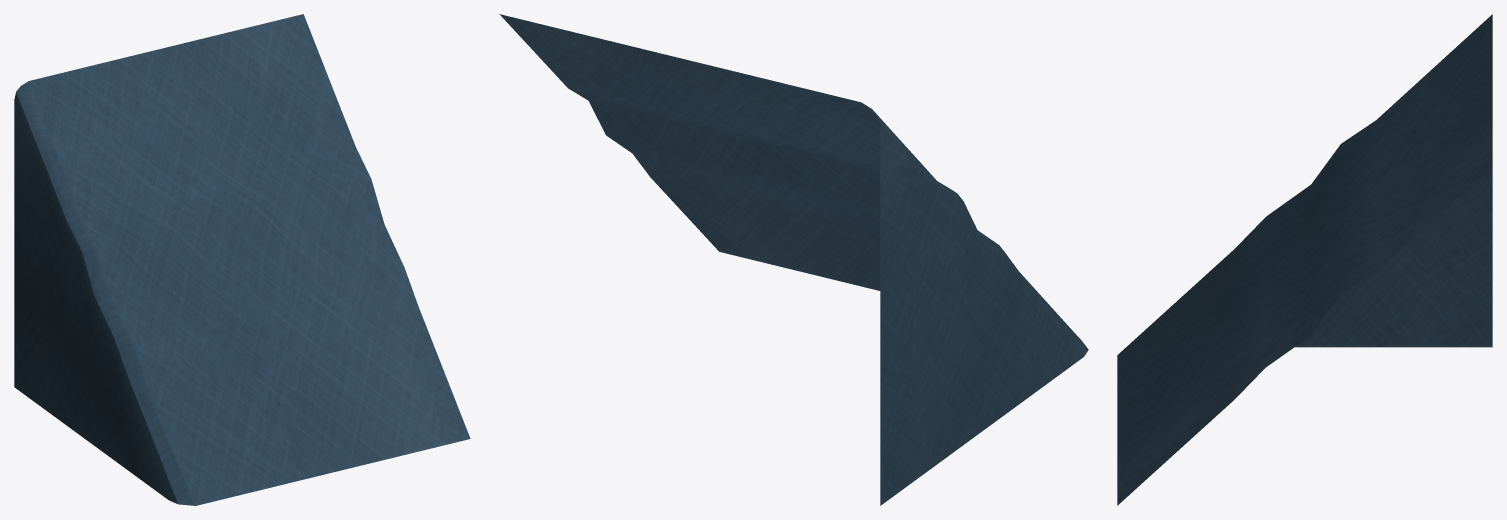
File: tl_slopeR.FBX
3 renders of one model, left to right at view 1: azimuth 30°, elevation 25°; view 2: azimuth 150°, elevation 25°; view 3: azimuth 270°, elevation 25°, orthographic. The views are drawn at different scales.
Parts seen in each view (by area): view 1: tl_slopeR_MESH; view 2: tl_slopeR_MESH; view 3: tl_slopeR_MESH.
Boxes of the visible parts, box(x1,y1,x2,y2) form: tl_slopeR_MESH: box(14, 14, 470, 505); tl_slopeR_MESH: box(499, 14, 1088, 505); tl_slopeR_MESH: box(1117, 14, 1492, 505).
Size of the model in its own units: 100 by 100 by 100.
